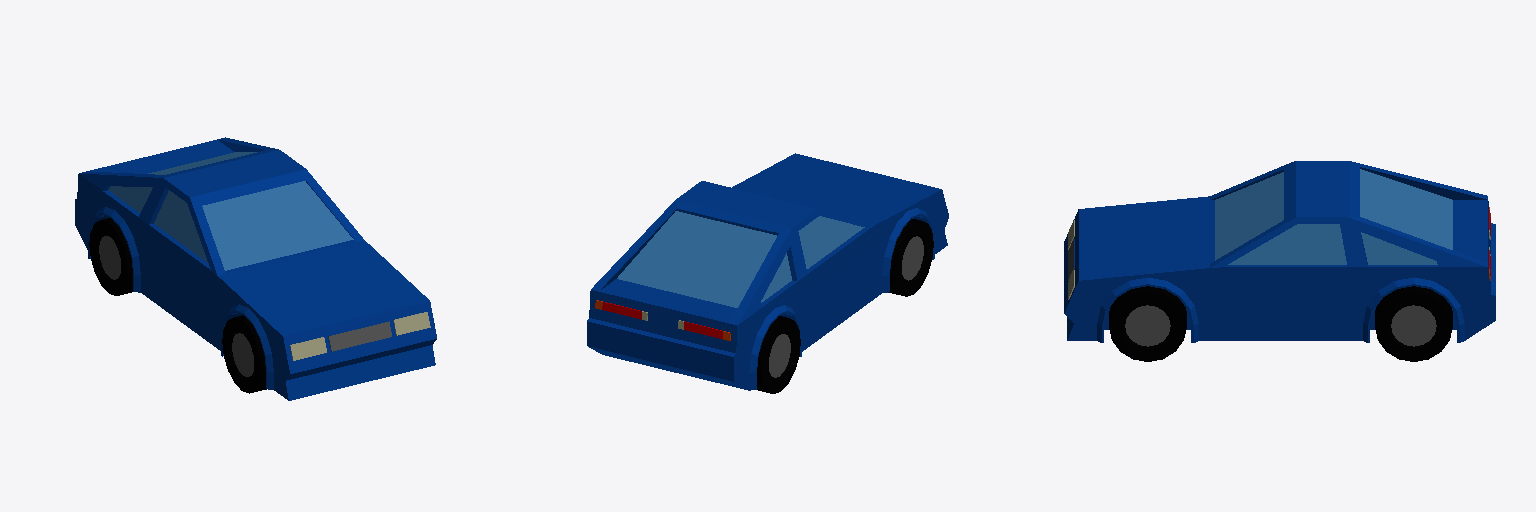
File: car-coupe-blue.obj
The picture shows the model from 3 angles: view 1: azimuth 30°, elevation 25°; view 2: azimuth 150°, elevation 25°; view 3: azimuth 270°, elevation 25°; orthographic projection.
Parts seen in each view (by area): view 1: car-coupe-blue_Cube.580; view 2: car-coupe-blue_Cube.580; view 3: car-coupe-blue_Cube.580.
Boxes of the visible parts, x1=… form: car-coupe-blue_Cube.580: x1=75, y1=137, x2=436, y2=400; car-coupe-blue_Cube.580: x1=587, y1=153, x2=948, y2=393; car-coupe-blue_Cube.580: x1=1064, y1=161, x2=1495, y2=361.
Bounding box in the file's own units: 0.854 × 0.681 × 1.99.